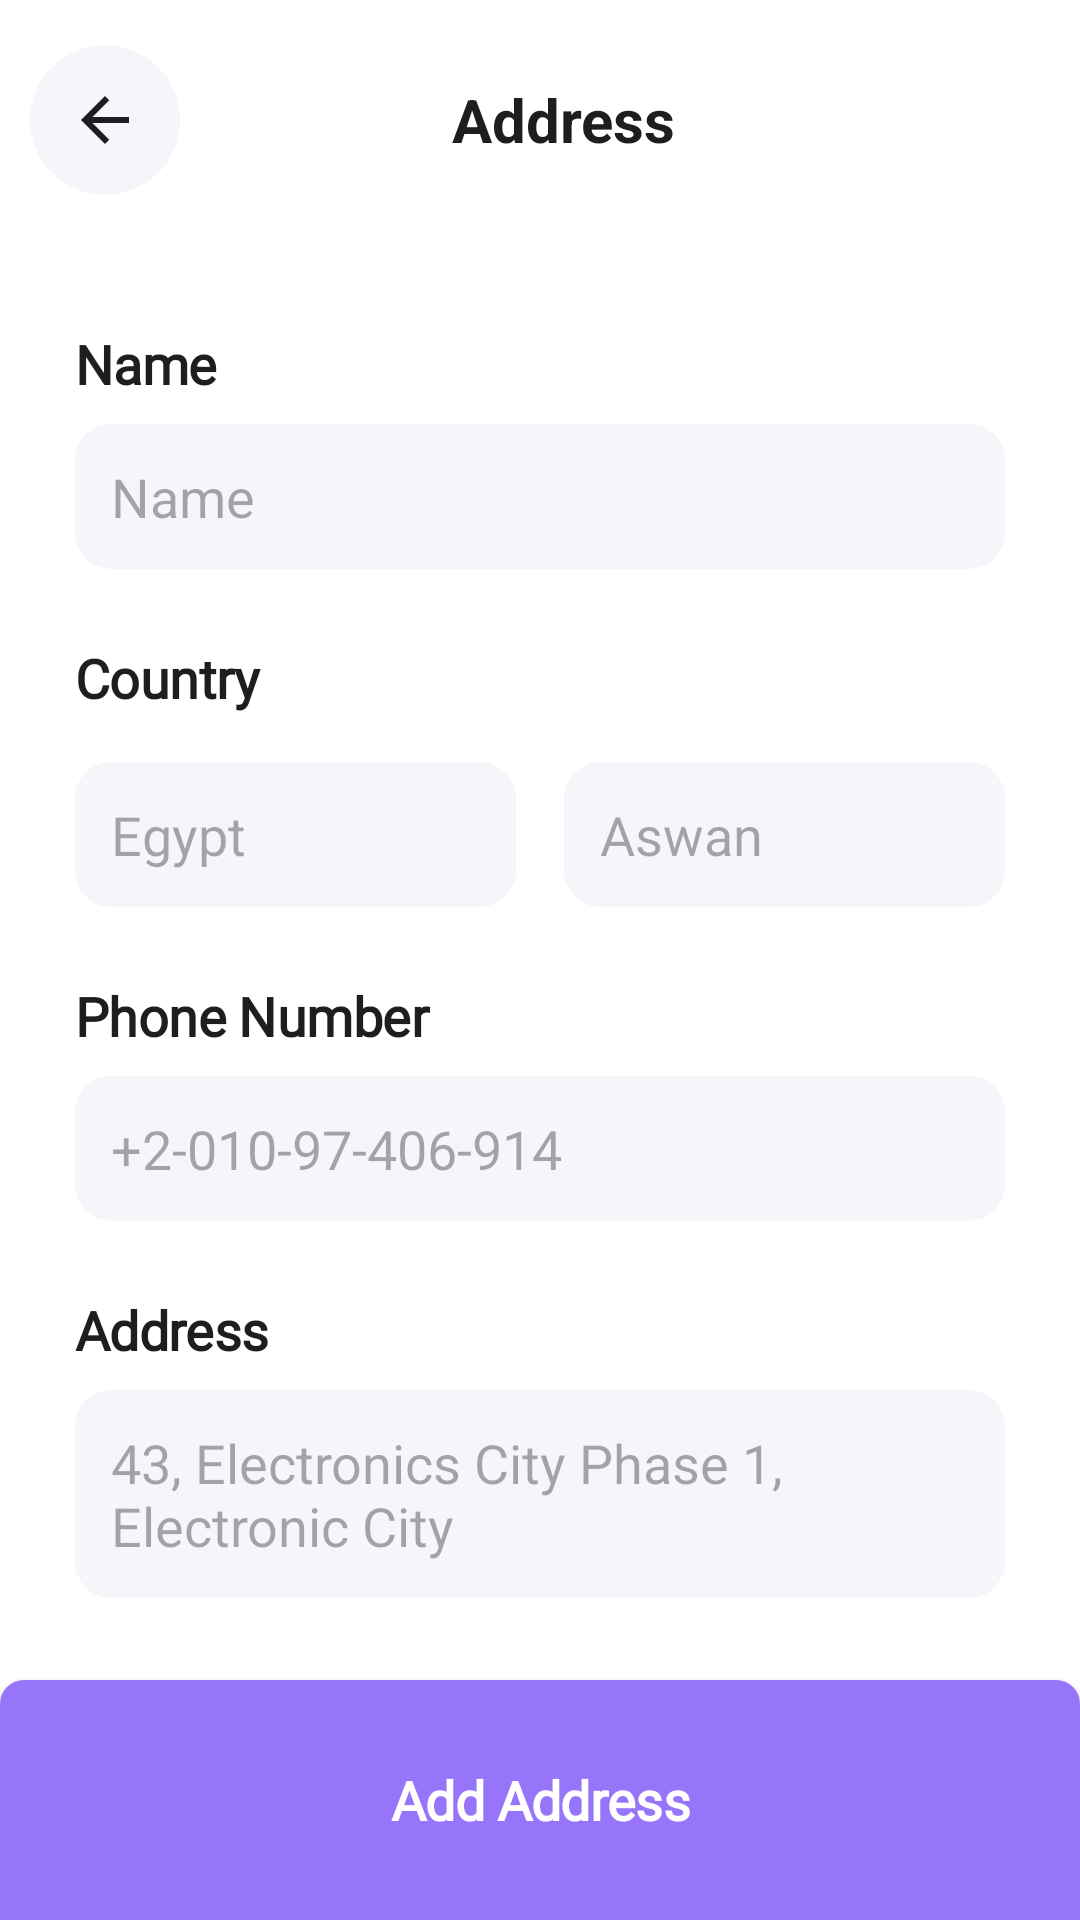

Named icons in this screenshot (1080w x 1920h) and their bounding boxes, (x1, y1, x2, y2):
arrow: (30, 45, 180, 195)
